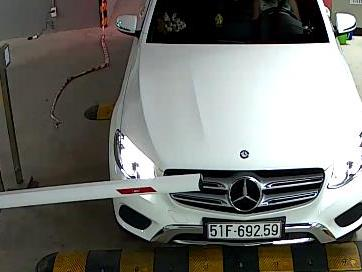car: (207, 220, 283, 238)
